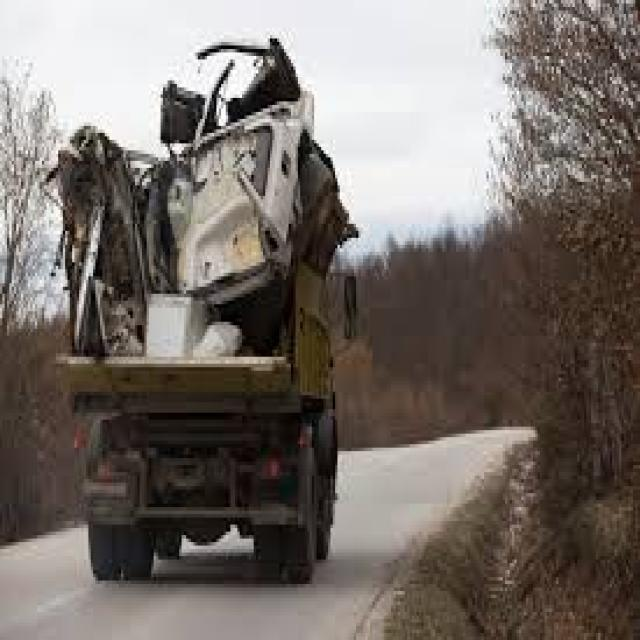uncovered: (48, 31, 362, 580)
